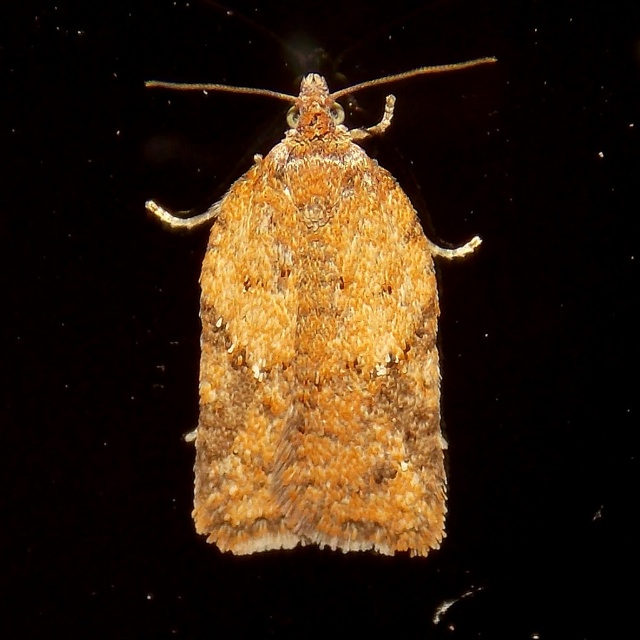Moths and butterflies: (141, 54, 502, 560)
